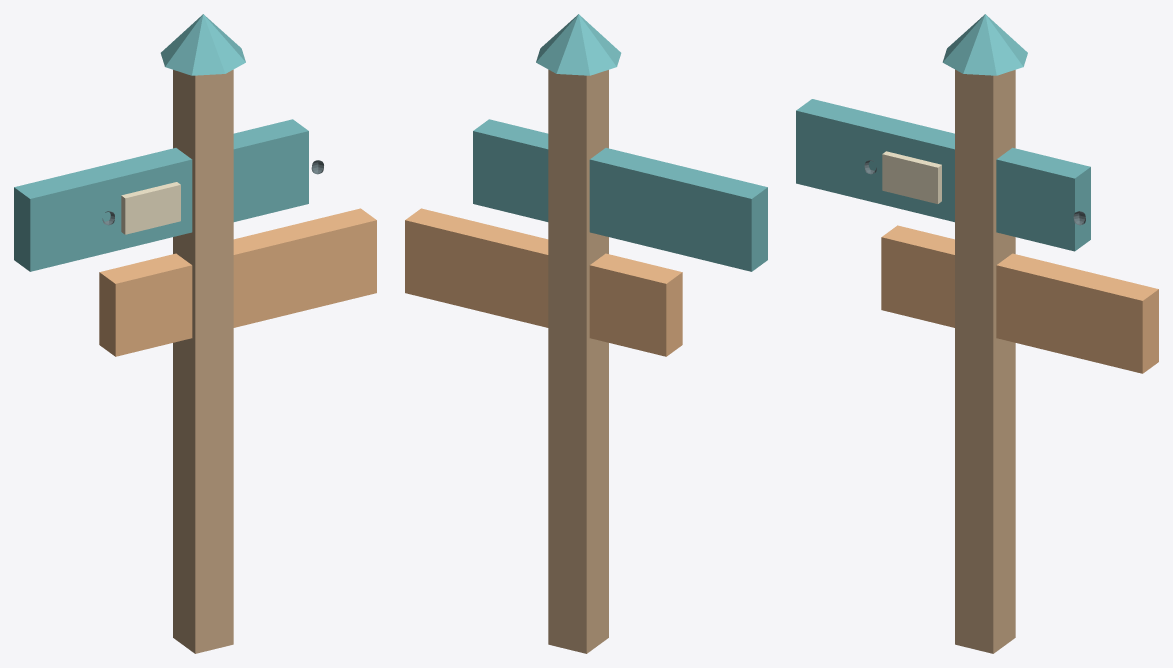
Rendered from meadow-courier-village-route-sign__47.glb.
3 renders of one model, left to right at view 1: azimuth 30°, elevation 25°; view 2: azimuth 150°, elevation 25°; view 3: azimuth 330°, elevation 25°, orthographic.
Visible parts, largest first — view 1: meadow-courier-route-sign; view 2: meadow-courier-route-sign; view 3: meadow-courier-route-sign.
Boxes of the visible parts, x1,y1,x2,y2 form: meadow-courier-route-sign: (14, 14, 376, 653); meadow-courier-route-sign: (405, 14, 767, 653); meadow-courier-route-sign: (796, 14, 1158, 653).
Bounding box in the file's own units: 0.995 × 1.72 × 0.22.
